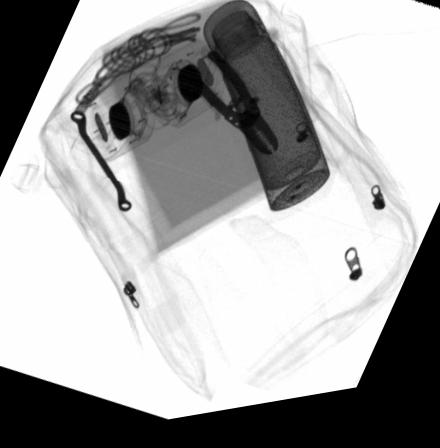Pliers: (185, 55, 279, 167)
Wrench: (67, 111, 132, 218)
